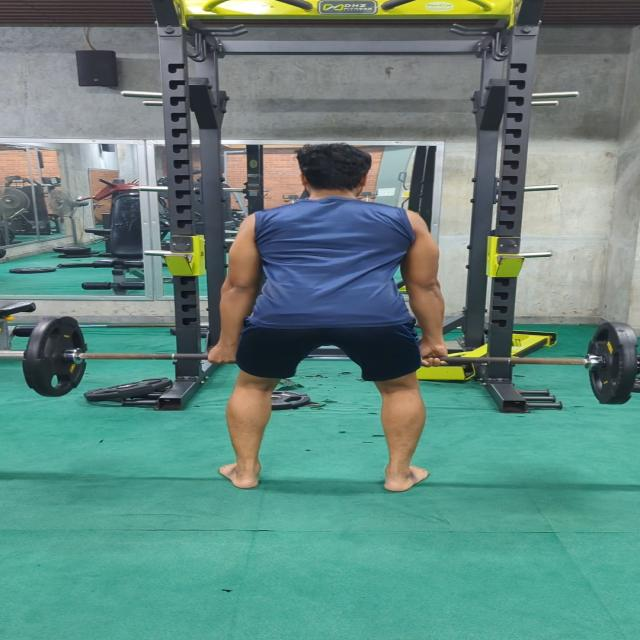Normal_Deadlifts: (204, 143, 448, 494)
